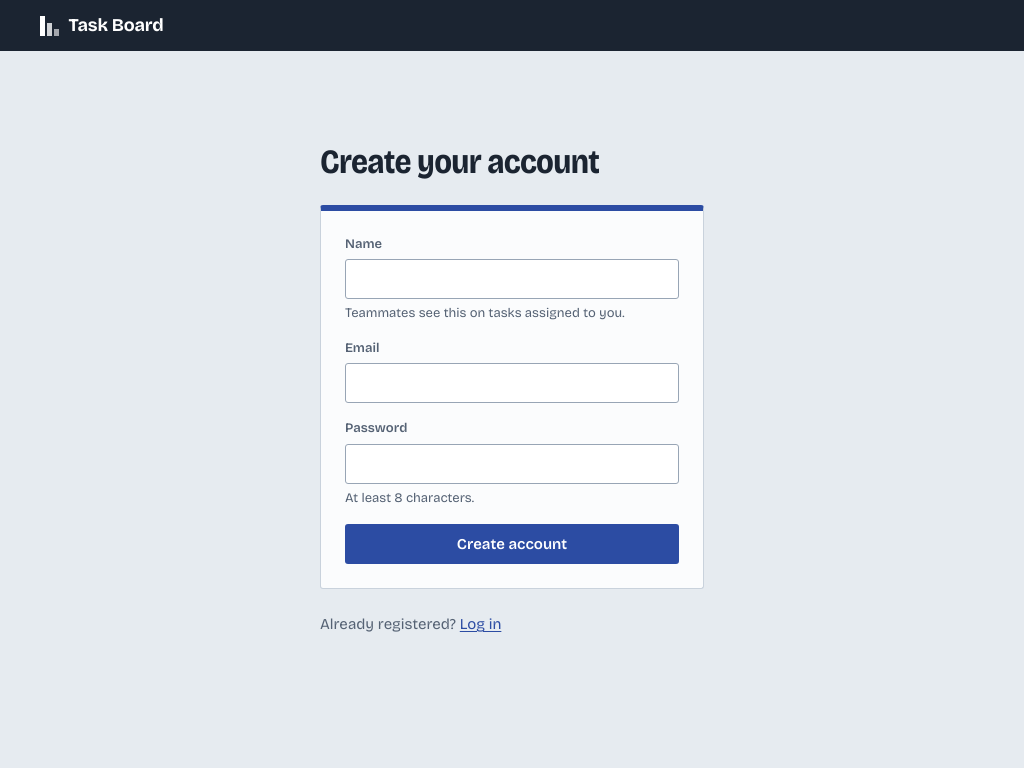
Test case: register form › enforces the password rule client-side, then registers
Type "Alice Adams" into the field labelled "Name" at (512, 279), box [345,259,679,299]
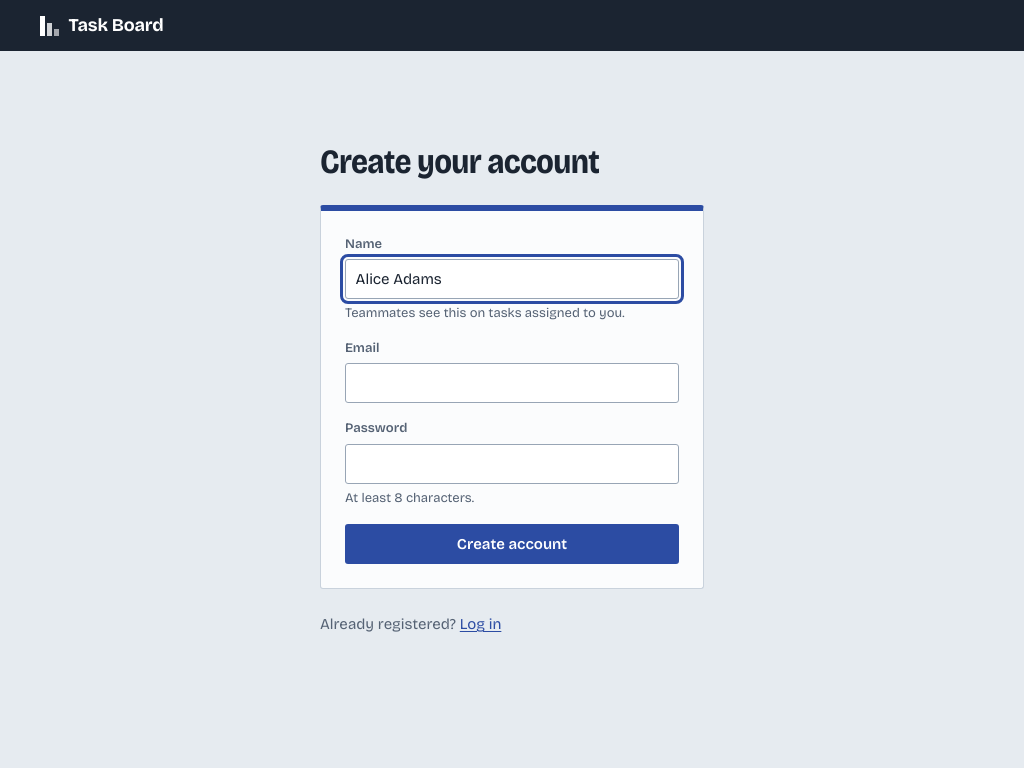
Type "alice@example.com" into the field labelled "Email" at (512, 383), box [345,363,679,403]
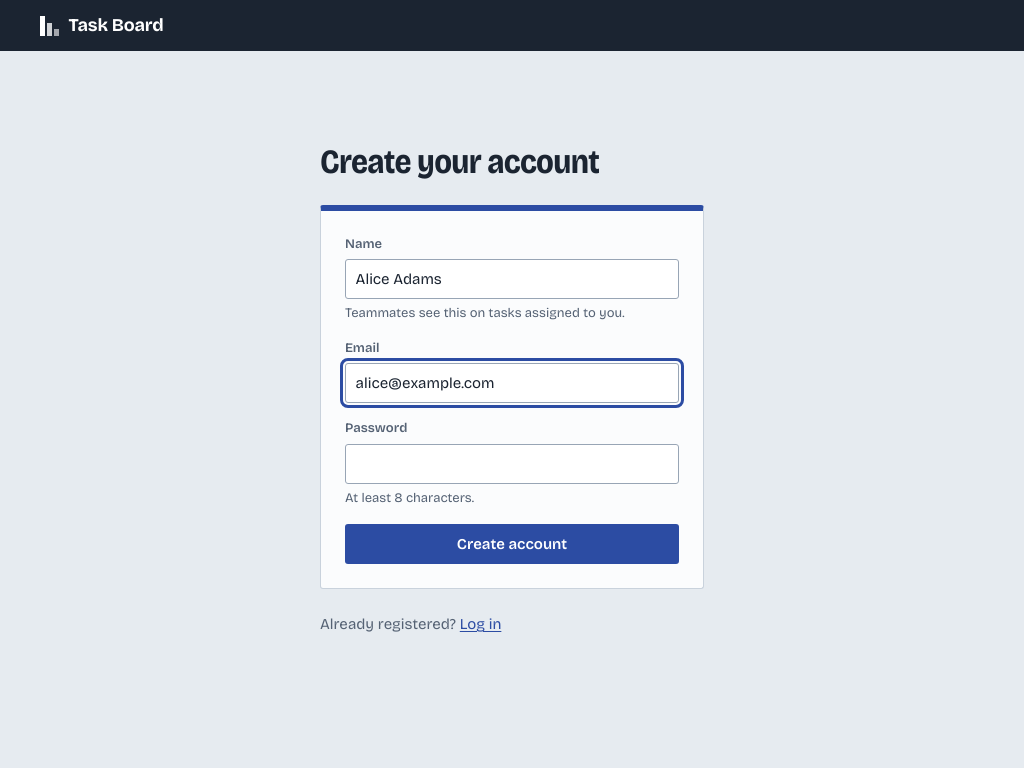
Type "short" into the password field labelled "Password" at (512, 464), box [345,444,679,484]
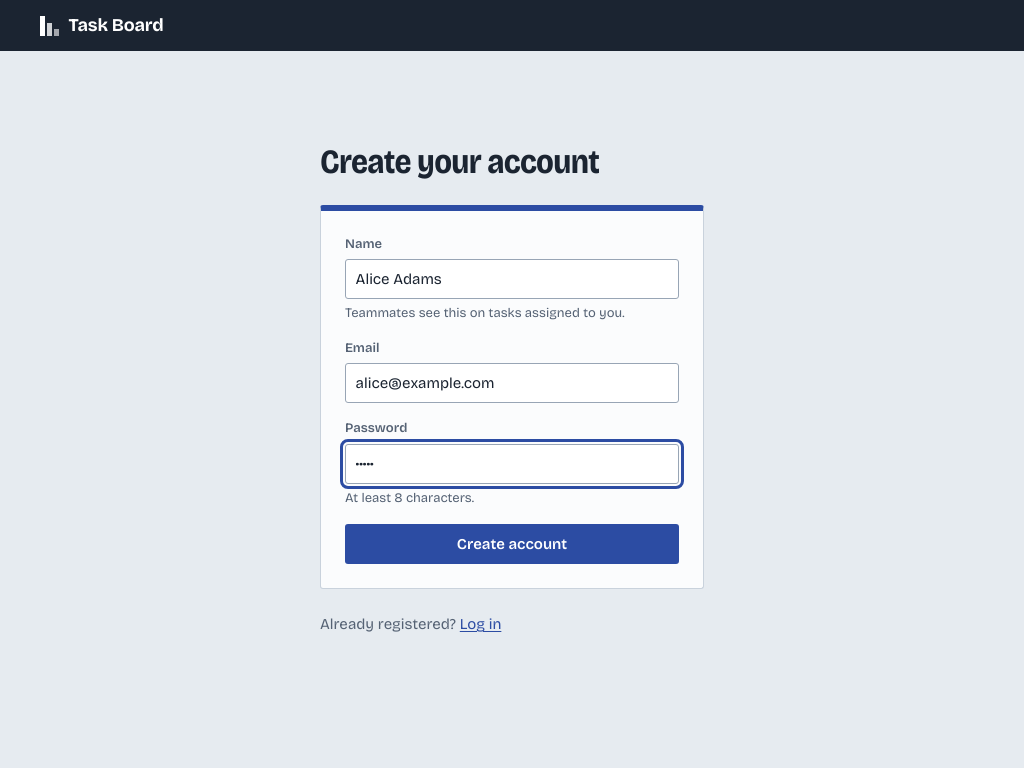
Click the button "Create account" at (512, 544), box [345,524,679,564]
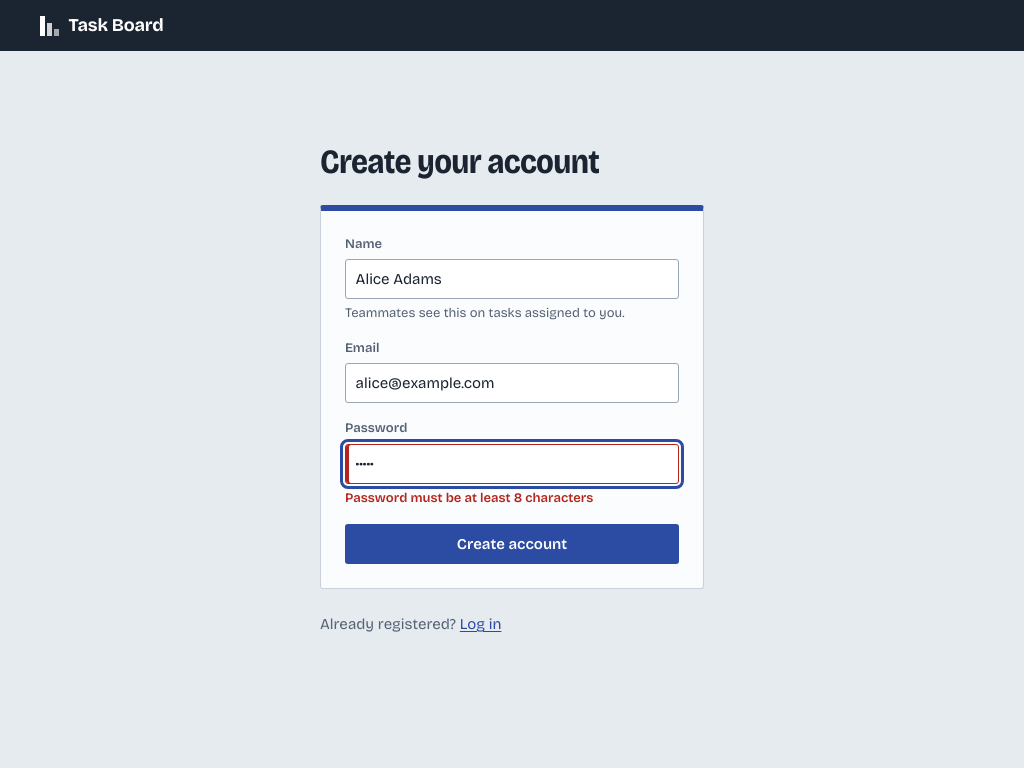
Expected: the text "Password must be at least 8 characters" is shown, [345,490,593,506]
Type "long-enough-password" into the password field labelled "Password" at (512, 464), box [345,444,679,484]
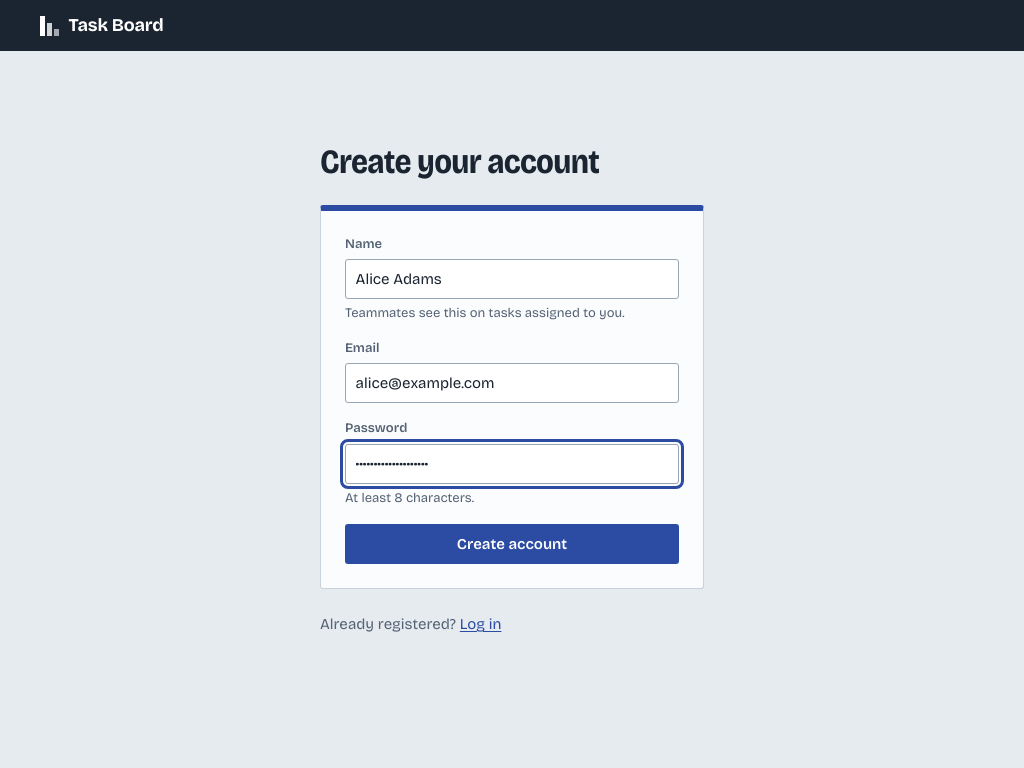
Click the button "Create account" at (512, 544), box [345,524,679,564]
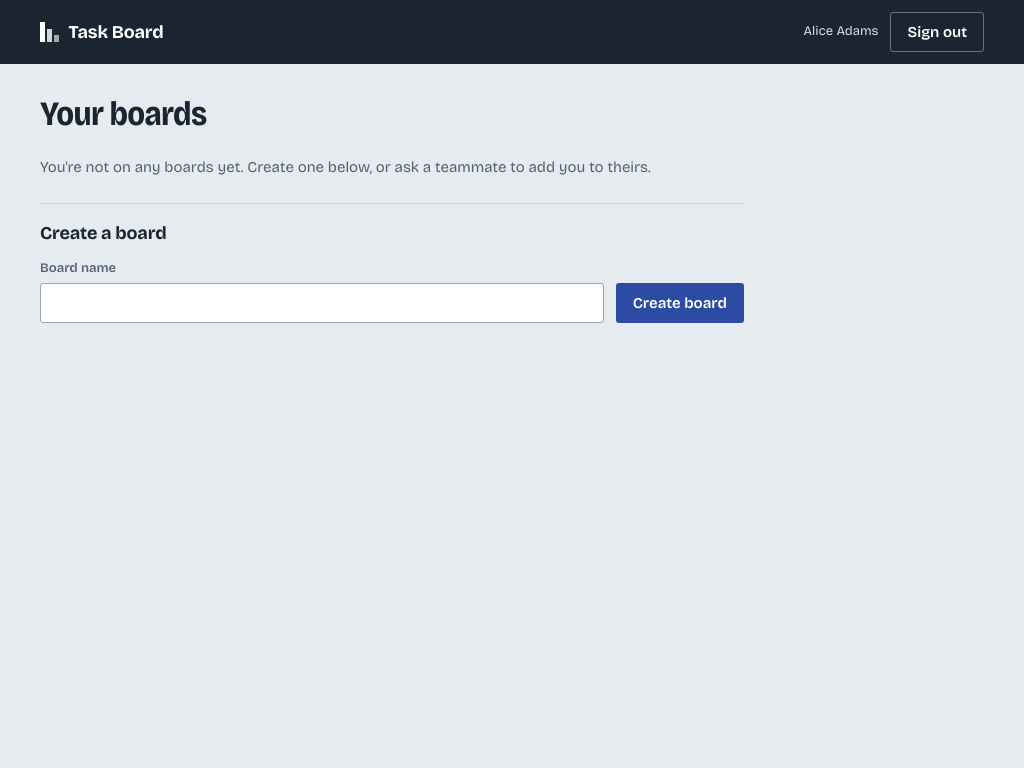
Expected: the heading "Your boards" is shown, [40,93,206,134]
